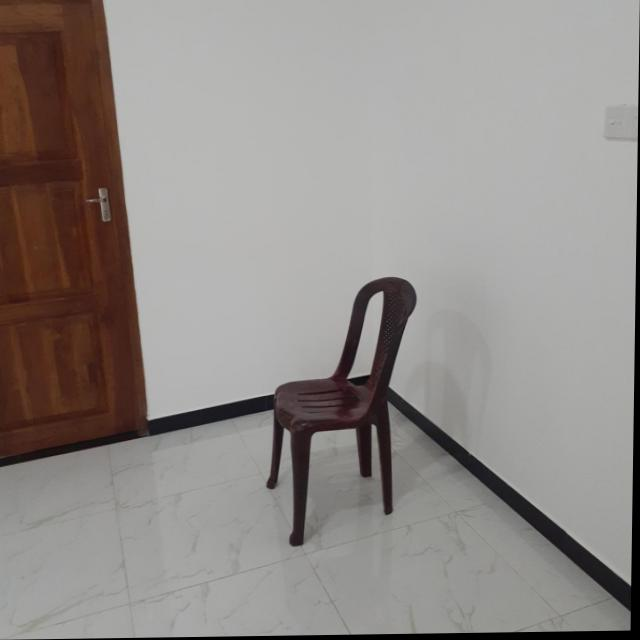Chair: (264, 277, 417, 549)
